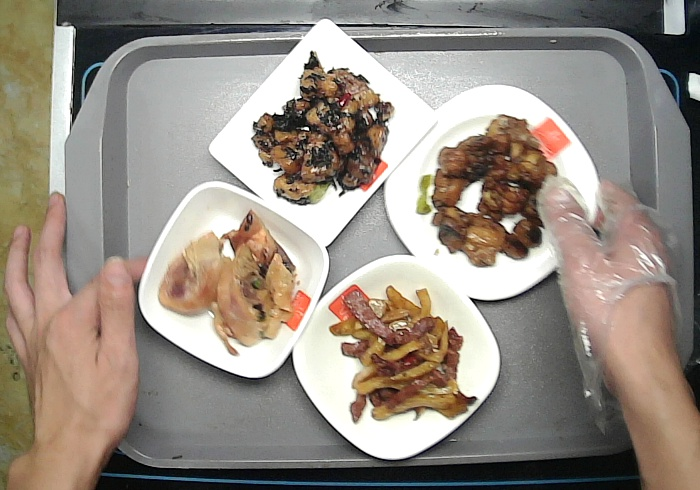SHKJ-Bai_Se_Cai_Die: (289, 253, 505, 463)
SHKJ-Bai_Se_Si_Fang_Cai_Die: (381, 82, 603, 305)
SHKJ-Bai_Se_Xiao_Fang_Die: (137, 178, 333, 385)
SHKJ-Si_Fang_Min: (206, 15, 438, 249)
